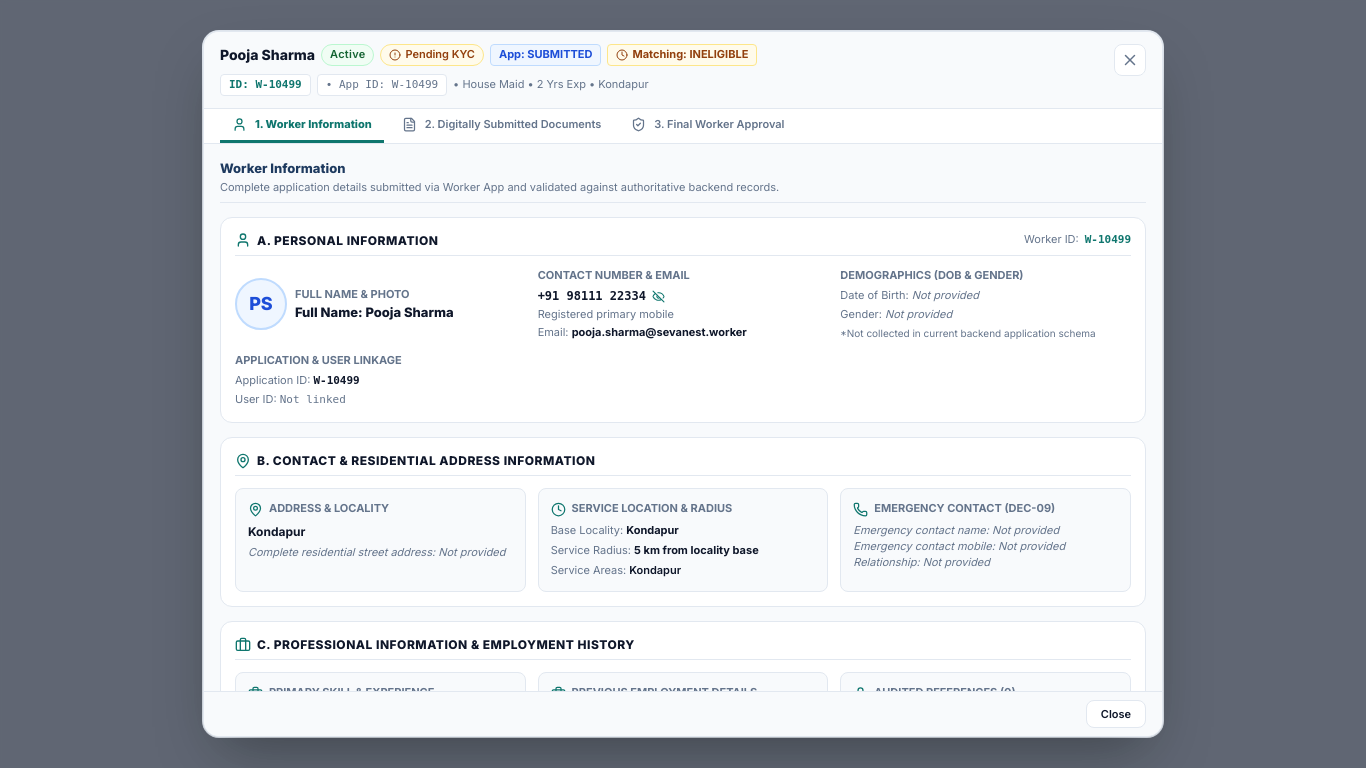
Test: Worker Final Rejection Workflow and Strict Backend Safety › 2. Backend 404 (Missing Worker-Level Rejection Endpoint) - Unsafe Fallback Prohibited › blocks worker rejection, displays clear error, and does NOT fall back to check rejection or change status
The image size is (1366, 768).
Expected: the heading "Pooja Sharma" is shown, 220,46 -> 315,64
Click the tab "3. Final Worker Approval" at [708, 126], box 619,108 -> 796,142
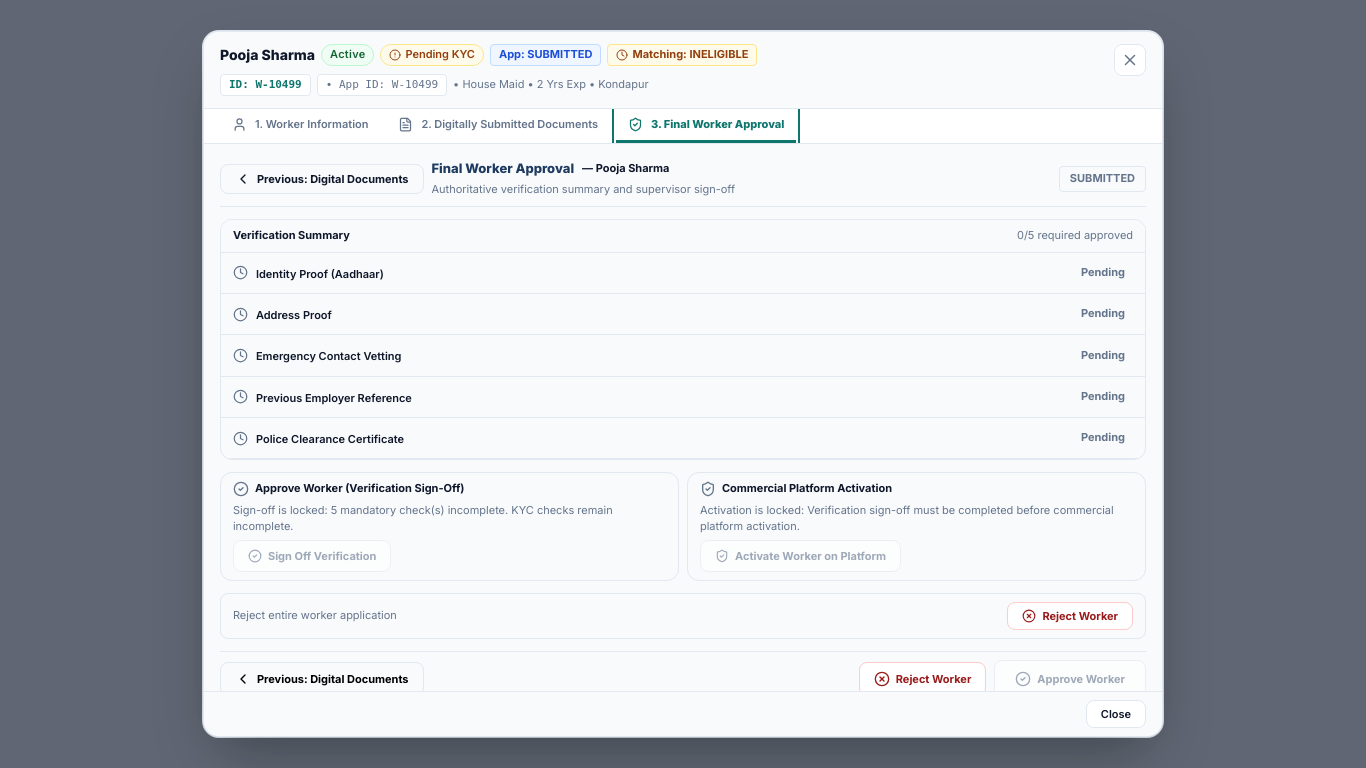
Note: Click Reject Worker
Click the button with test id "stage4-bottom-reject-btn" at [923, 679], box 859,662 -> 986,696
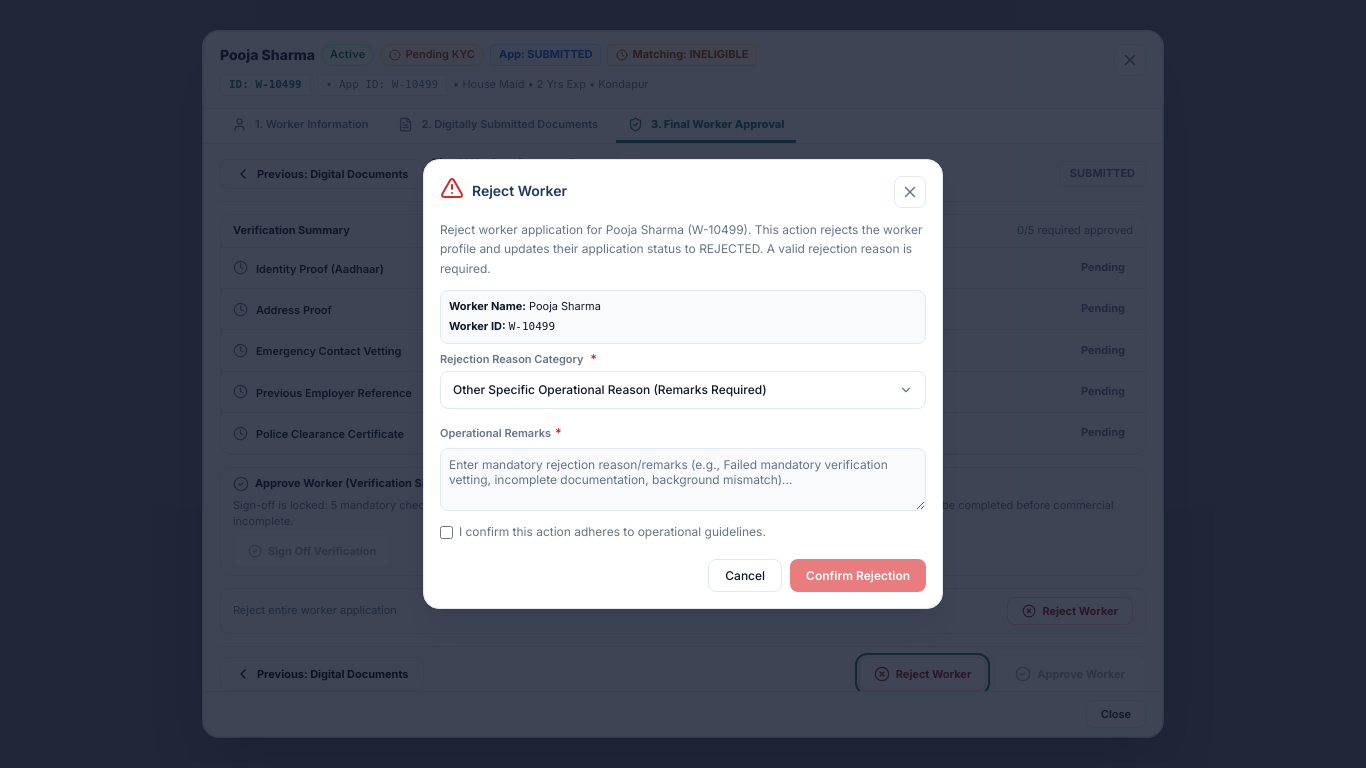
Now the heading "Reject Worker" is shown, box 472,182 -> 567,200
Note: Enter valid rejection reason
Type "Applicant failed to provide mandatory documents within deadline" into the text box with placeholder "Enter mandatory rejection reason/remarks" at [683, 480], box 440,448 -> 926,511
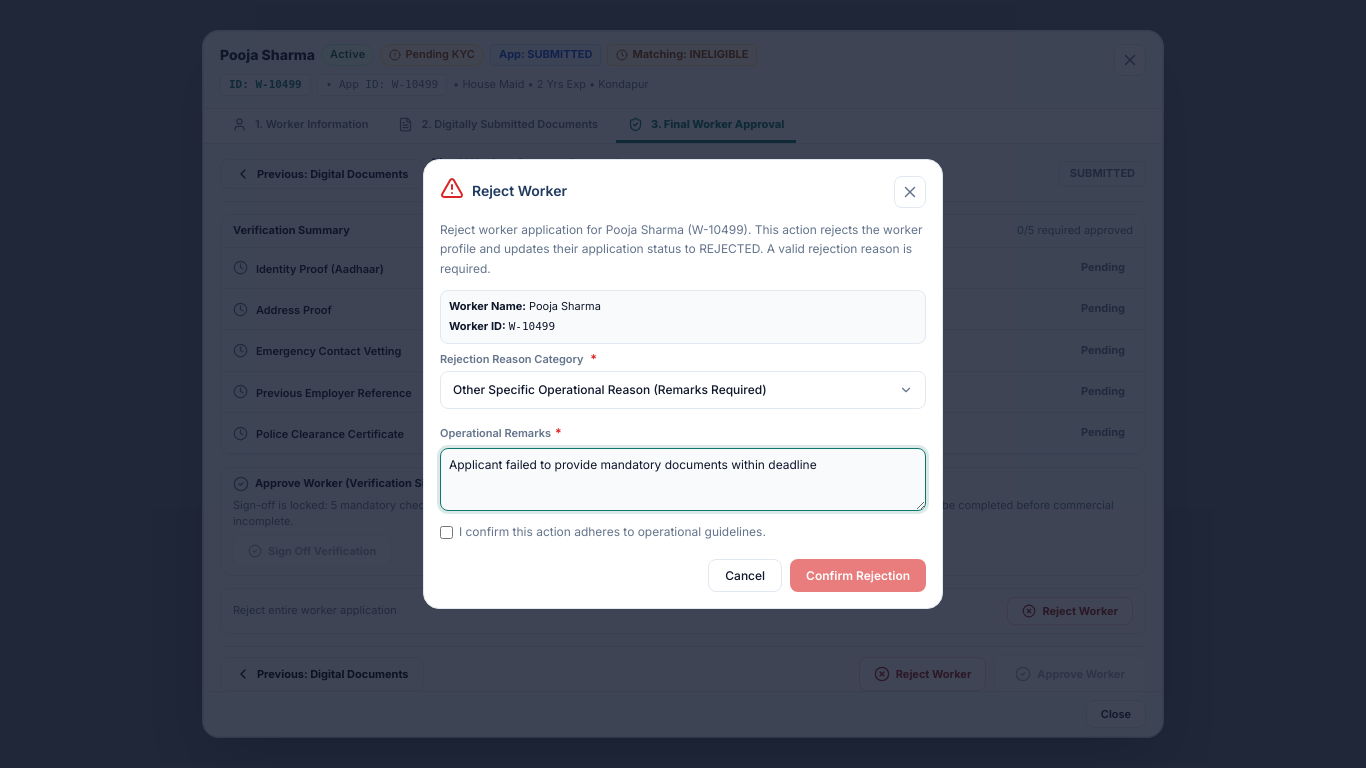
Note: Check operational confirmation checkbox inside dialog
Click the checkbox with test id "confirm-destructive-checkbox" at [446, 532], box 440,526 -> 453,538
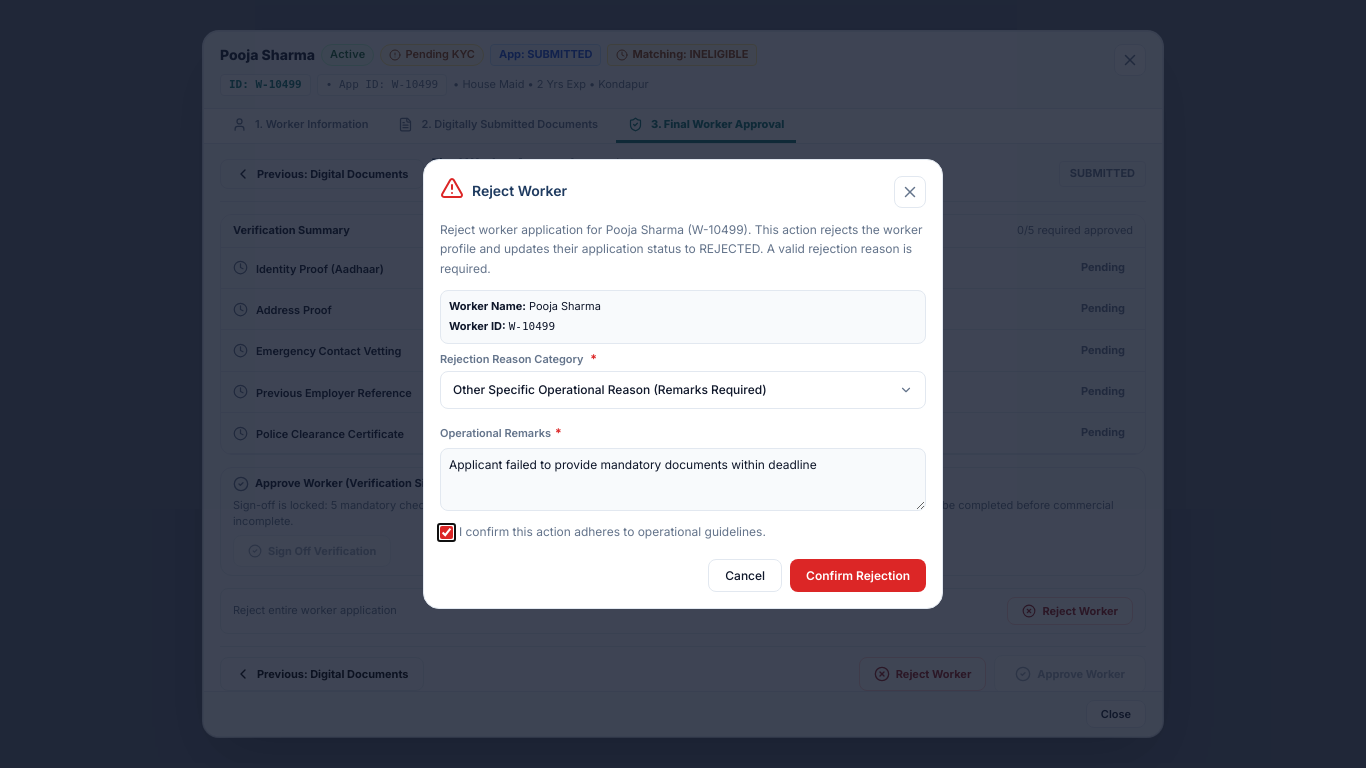
Now the button "Confirm Rejection" is enabled
Click the button "Confirm Rejection" at [858, 575], box 790,559 -> 926,592
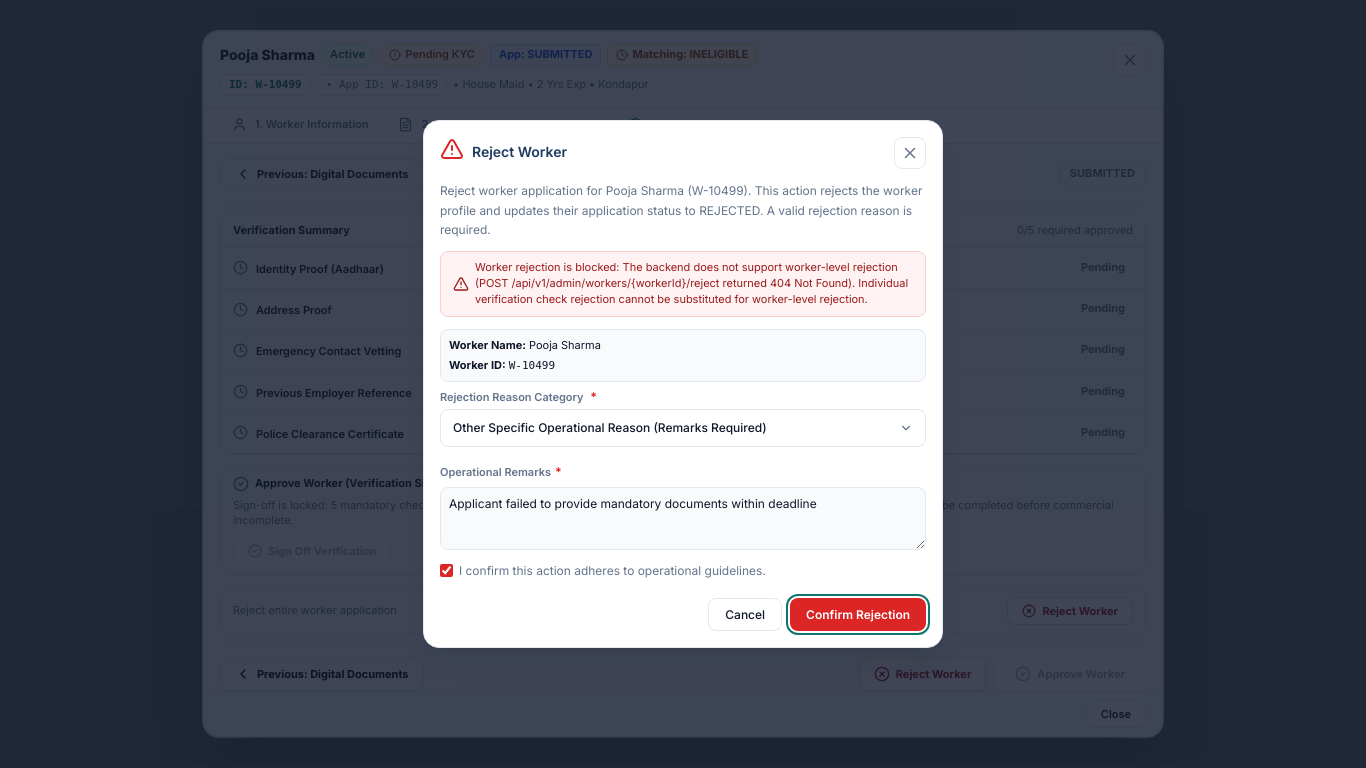
Now the heading "Reject Worker" is shown, box 472,143 -> 567,161
Now the message is shown, box 440,251 -> 926,317
